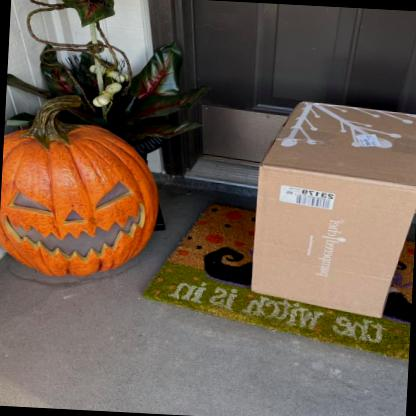box: (243, 99, 416, 320)
